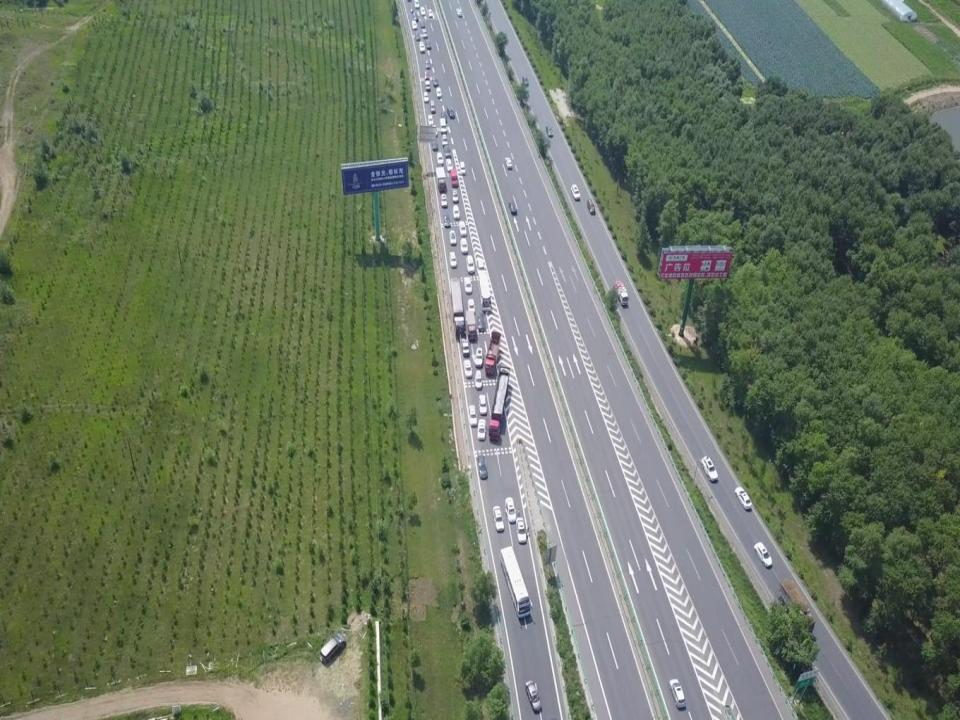bus: (495, 547, 536, 619)
car: (320, 634, 346, 664), (524, 678, 543, 712), (755, 538, 772, 568), (670, 678, 685, 708), (702, 453, 716, 482), (735, 486, 752, 509), (503, 498, 518, 523), (517, 517, 530, 544), (475, 453, 488, 478), (492, 505, 502, 532), (467, 401, 476, 424), (478, 392, 486, 416), (478, 418, 486, 442), (462, 357, 472, 375), (474, 369, 483, 389), (571, 184, 582, 200), (466, 255, 474, 277), (475, 345, 483, 367), (587, 200, 597, 217), (478, 312, 486, 332), (450, 170, 460, 186), (439, 115, 447, 132), (444, 158, 454, 171), (446, 105, 456, 118), (442, 214, 450, 228), (452, 204, 459, 220), (449, 252, 456, 268), (464, 278, 472, 292), (510, 200, 518, 214), (449, 227, 455, 245), (460, 216, 466, 234), (469, 296, 475, 314), (441, 193, 449, 206), (441, 134, 450, 145), (460, 162, 467, 176), (504, 156, 512, 168), (436, 152, 444, 164), (431, 138, 439, 150), (422, 91, 430, 103), (432, 73, 440, 85), (418, 42, 426, 54), (460, 238, 467, 251), (429, 100, 436, 112), (443, 147, 452, 156), (426, 114, 434, 124), (455, 8, 464, 16), (436, 87, 443, 97), (424, 79, 431, 89), (425, 39, 432, 49), (441, 111, 448, 121), (423, 28, 429, 39), (547, 126, 553, 136), (425, 58, 431, 68), (414, 30, 420, 40), (451, 190, 456, 201), (420, 19, 426, 28), (420, 6, 426, 15), (464, 342, 468, 354), (414, 0, 420, 8), (428, 8, 433, 17), (424, 70, 429, 78), (412, 20, 417, 28)
truck: (489, 368, 509, 441), (450, 281, 464, 338), (486, 330, 502, 371), (479, 271, 492, 313), (615, 281, 629, 307), (464, 311, 476, 337), (436, 163, 446, 189)
